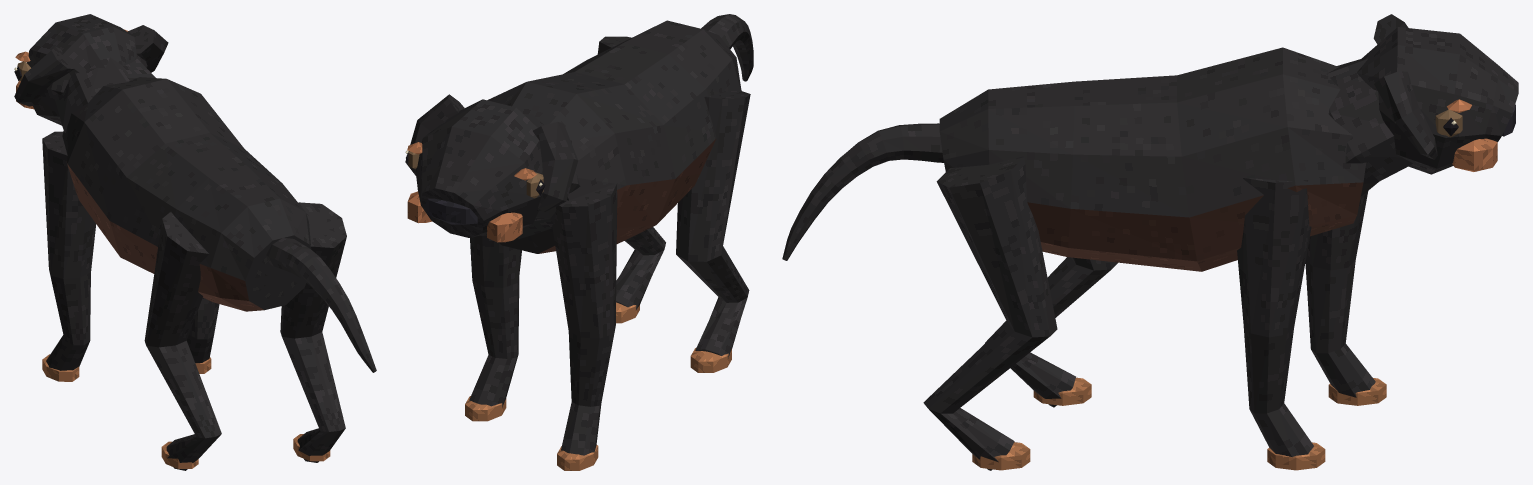
The model's file is mon_dog_rottweiler.glb.
3 renders of one model, left to right at view 1: azimuth 30°, elevation 25°; view 2: azimuth 150°, elevation 25°; view 3: azimuth 270°, elevation 25°, orthographic. The views are drawn at different scales.
Parts seen in each view (by area): view 1: closed_body; view 2: closed_body; view 3: closed_body.
Boxes of the visible parts, x1,y1,x2,y2 form: closed_body: (14,14,376,470); closed_body: (405,14,753,470); closed_body: (782,14,1518,470).
Bounding box in the file's own units: 0.429 × 0.8881 × 1.48.
1 material, 1 textured.
